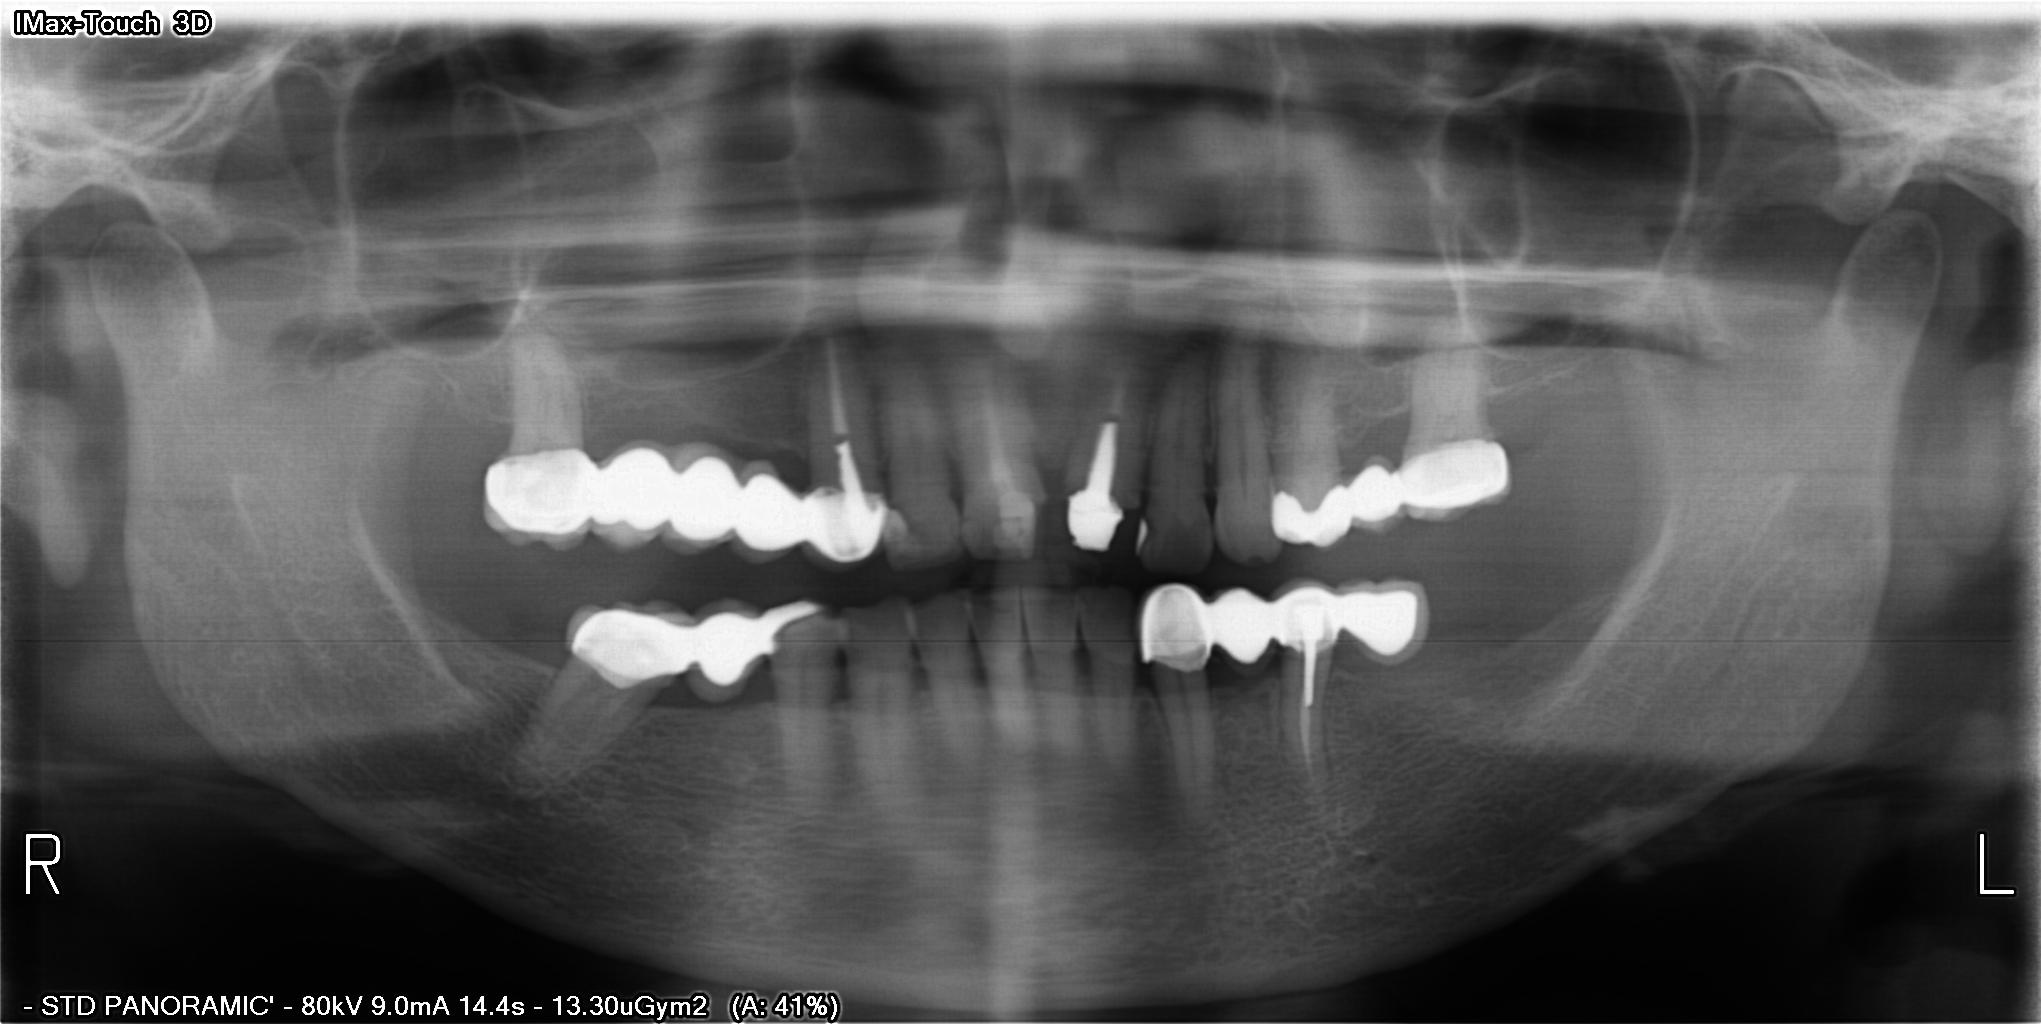Çürük: (1395, 419, 1513, 529), (470, 441, 601, 539), (564, 600, 697, 683), (1064, 421, 1123, 564), (1139, 583, 1229, 673), (1267, 579, 1344, 677), (1269, 478, 1365, 556), (810, 481, 881, 564), (751, 596, 816, 667), (996, 505, 1034, 559), (881, 515, 902, 542)
Çürük Bölgesi: (901, 508, 918, 550), (1150, 522, 1153, 543)
